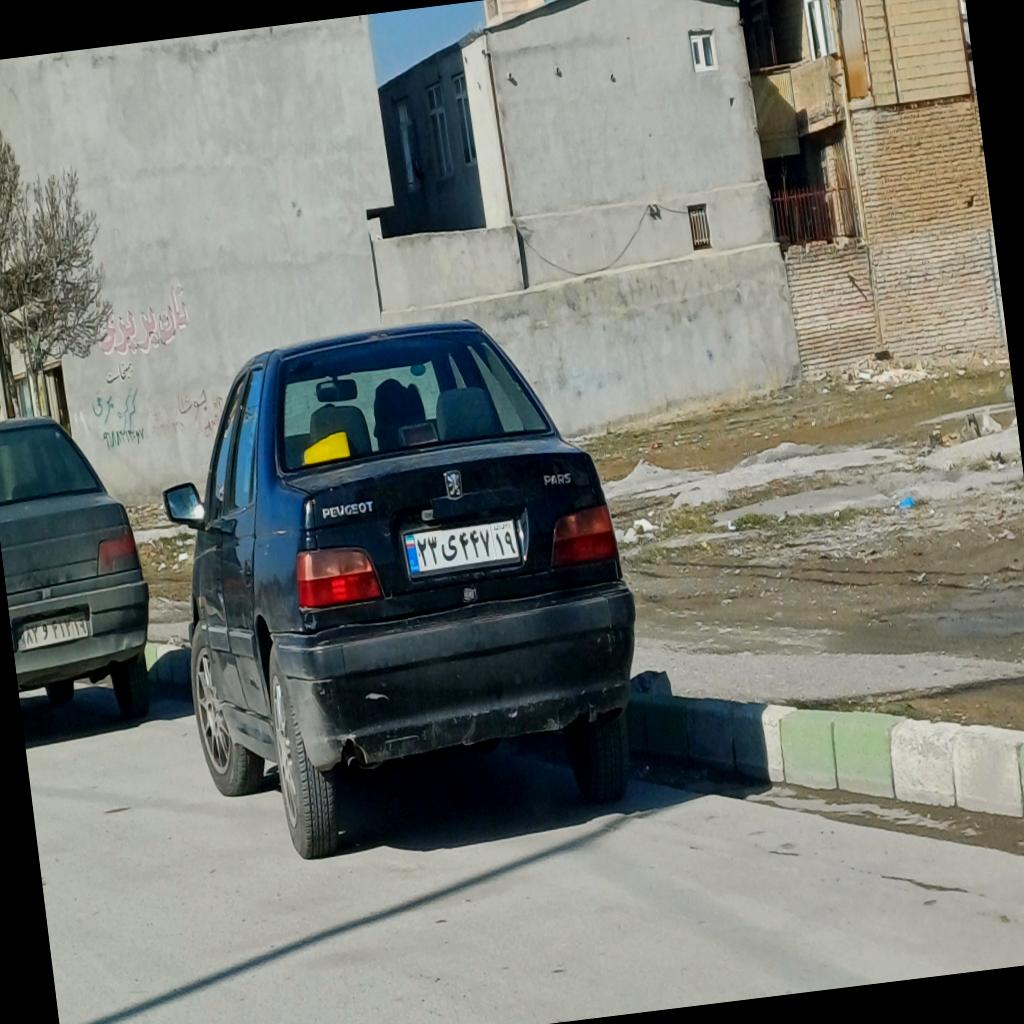Plates: (404, 518, 521, 574), (13, 608, 92, 652)
